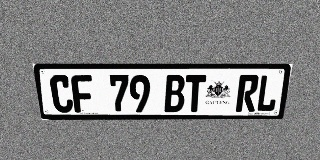7: (108, 75, 130, 112)
9: (129, 75, 150, 112)
B: (164, 75, 185, 112)
C: (49, 75, 74, 113)
F: (70, 75, 95, 113)
L: (255, 75, 280, 112)
R: (235, 75, 260, 112)
T: (184, 75, 206, 112)
